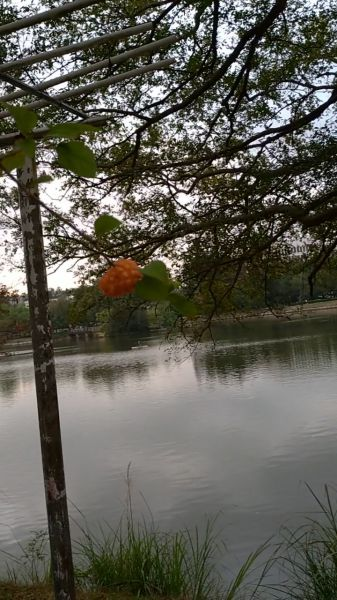eggs: (89, 253, 147, 304)
